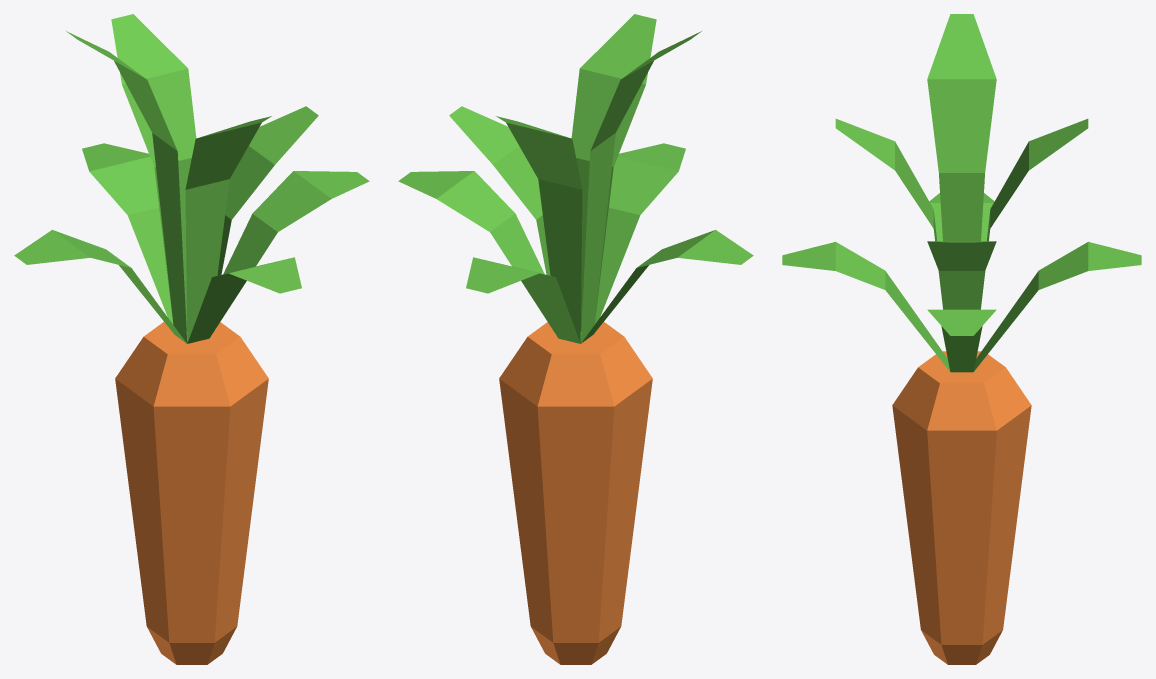
File: crop_carrot.glb
The picture shows the model from 3 angles, left to right: view 1: azimuth 30°, elevation 25°; view 2: azimuth 150°, elevation 25°; view 3: azimuth 270°, elevation 25°; orthographic projection. The views are drawn at different scales.
Visible parts, largest first — view 1: crop_carrot; view 2: crop_carrot; view 3: crop_carrot.
Part boxes in pixels (<box>): crop_carrot: <box>14,14,369,664</box>; crop_carrot: <box>398,14,753,664</box>; crop_carrot: <box>782,14,1141,664</box>.
Size of the model in its own units: 0.3431 by 0.6194 by 0.3431.
